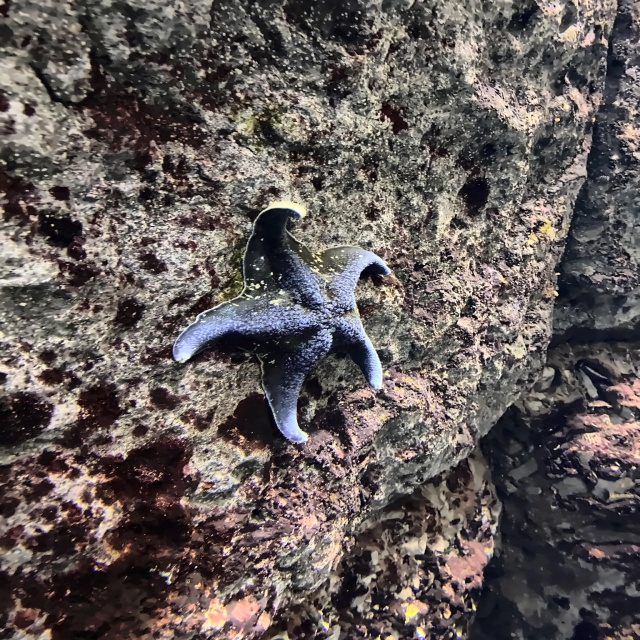starfish: (172, 202, 391, 443)
